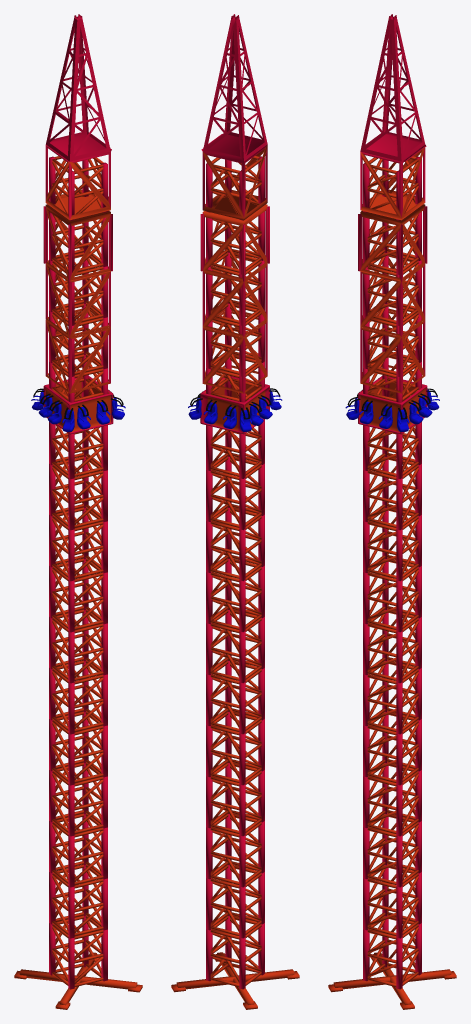
File: elevador.obj
3 renders of one model, left to right at view 1: azimuth 30°, elevation 25°; view 2: azimuth 150°, elevation 25°; view 3: azimuth 330°, elevation 25°, orthographic.
Visible parts, largest first — view 1: crane_Mesh.065, Cube.002_Cube.032; view 2: crane_Mesh.065, Cube.002_Cube.032; view 3: crane_Mesh.065, Cube.002_Cube.032.
Part boxes in pixels (x1,y1,x2,y2): crane_Mesh.065: [14, 14, 142, 1009]; Cube.002_Cube.032: [31, 376, 125, 434]; crane_Mesh.065: [171, 14, 299, 1009]; Cube.002_Cube.032: [188, 376, 282, 434]; crane_Mesh.065: [328, 14, 456, 1009]; Cube.002_Cube.032: [345, 376, 439, 434].
Bounding box in the file's own units: 1.93 × 20.47 × 1.93.
